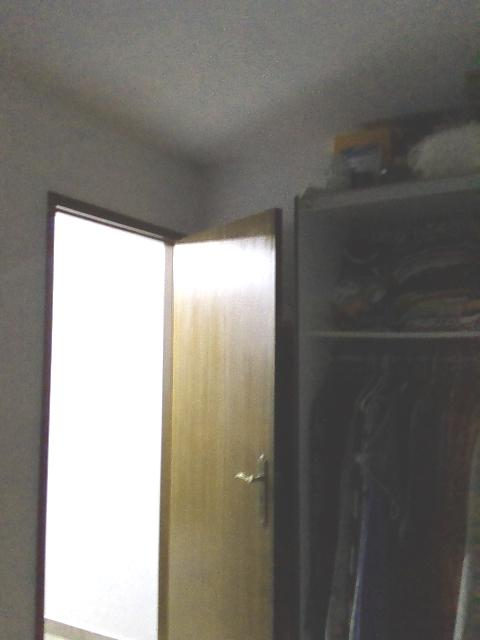open_door: (35, 183, 199, 639)
